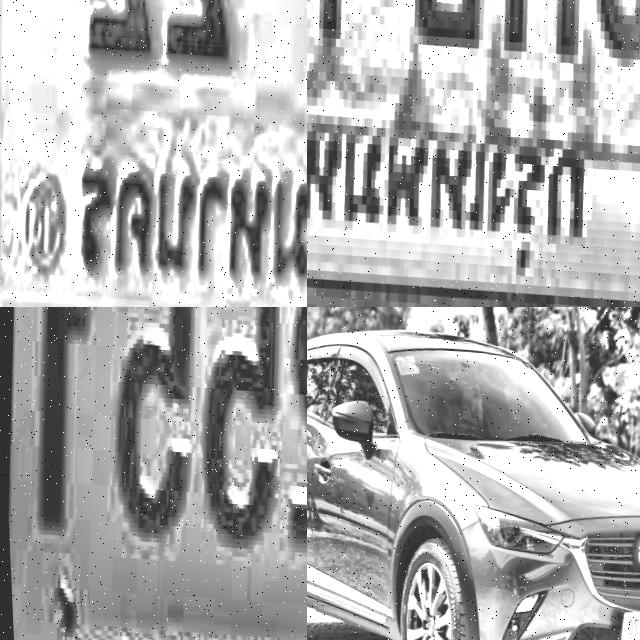license-plate: (307, 0, 640, 307), (0, 307, 307, 640), (0, 0, 307, 307), (606, 600, 640, 640)
